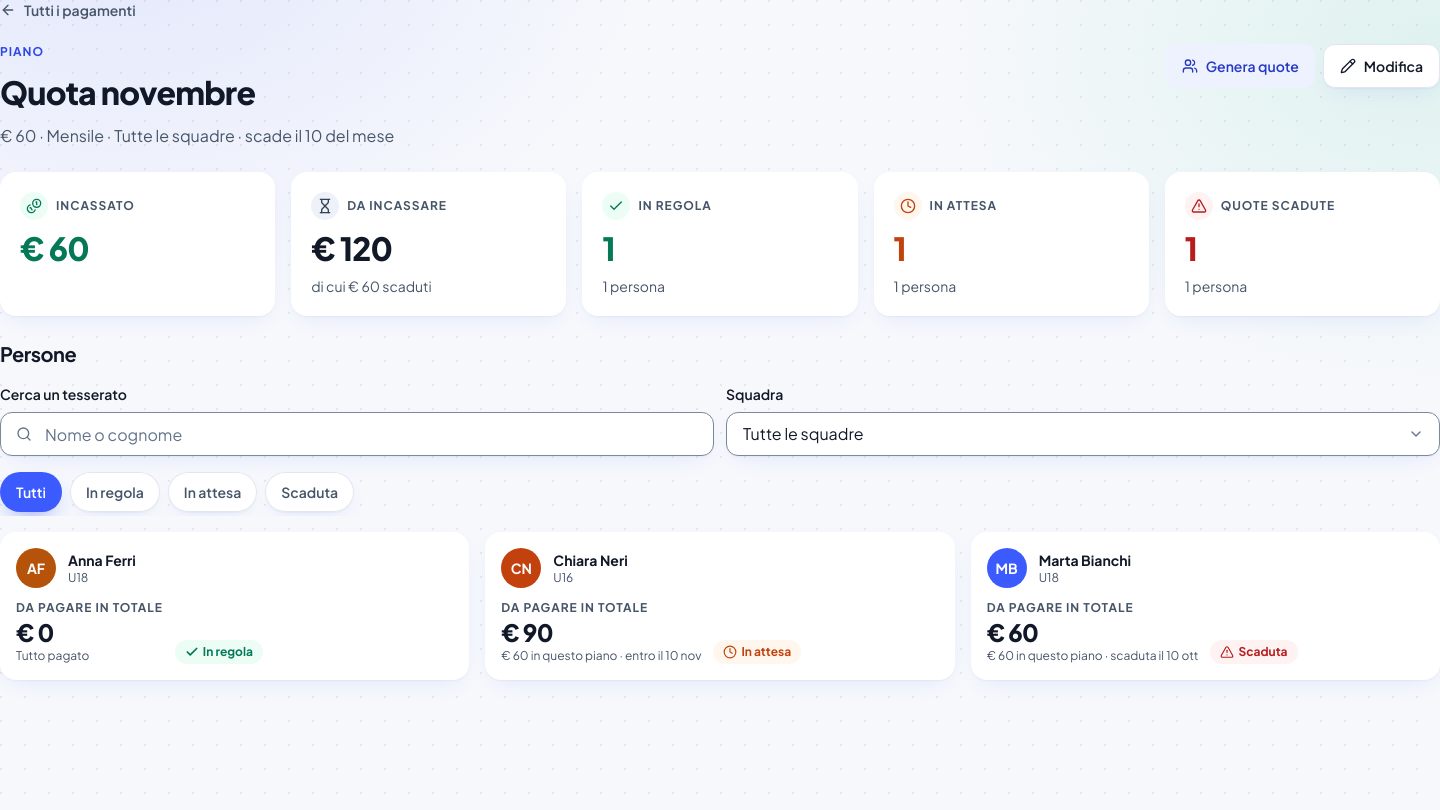
Scenario: PlanDetailPage: report and people › searches and filters inside the plan through the API, leaving the report untouched
expect the text "Anna Ferri" is shown: met, box [68,550,136,570]
Click the button "Scaduta": (310, 492) [265,472,354,512]
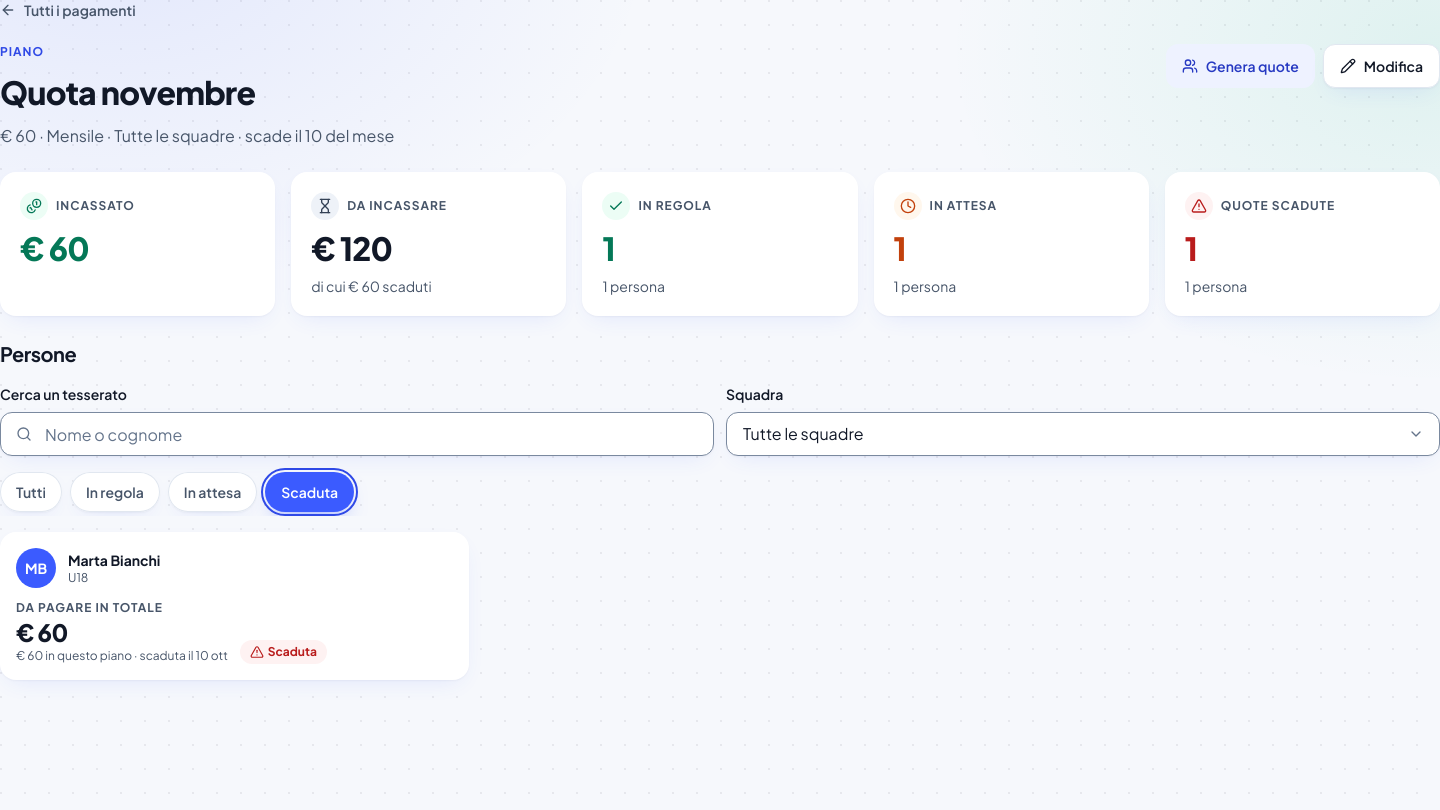
expect the text "Marta Bianchi" is shown: met, box [68,550,160,570]
expect the button "Anna Ferri" is gone: met
Click the button "Tutti": (31, 492) [0,472,62,512]
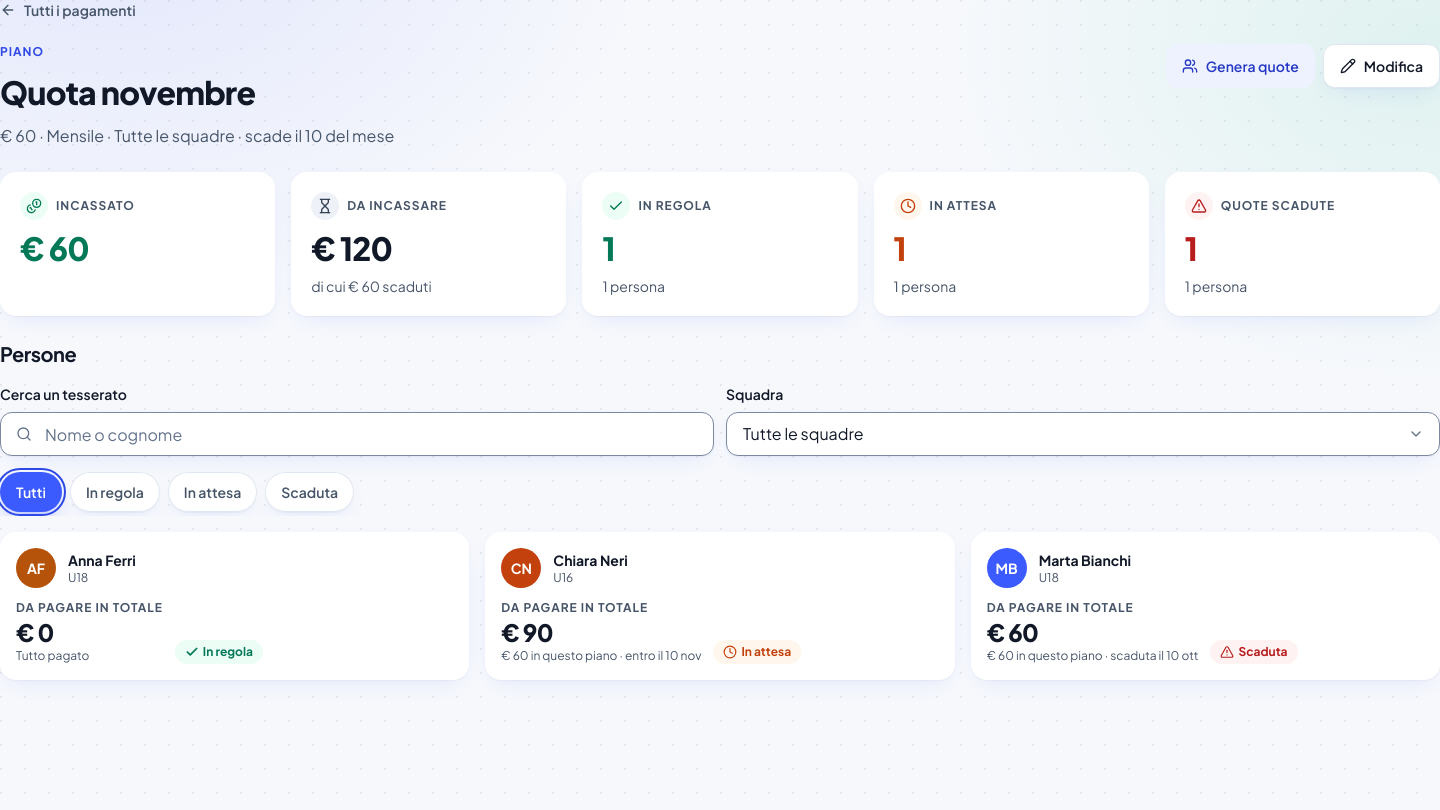
Select "U16" in the dropdown labelled "Squadra": (1083, 434) [726,412,1439,456]
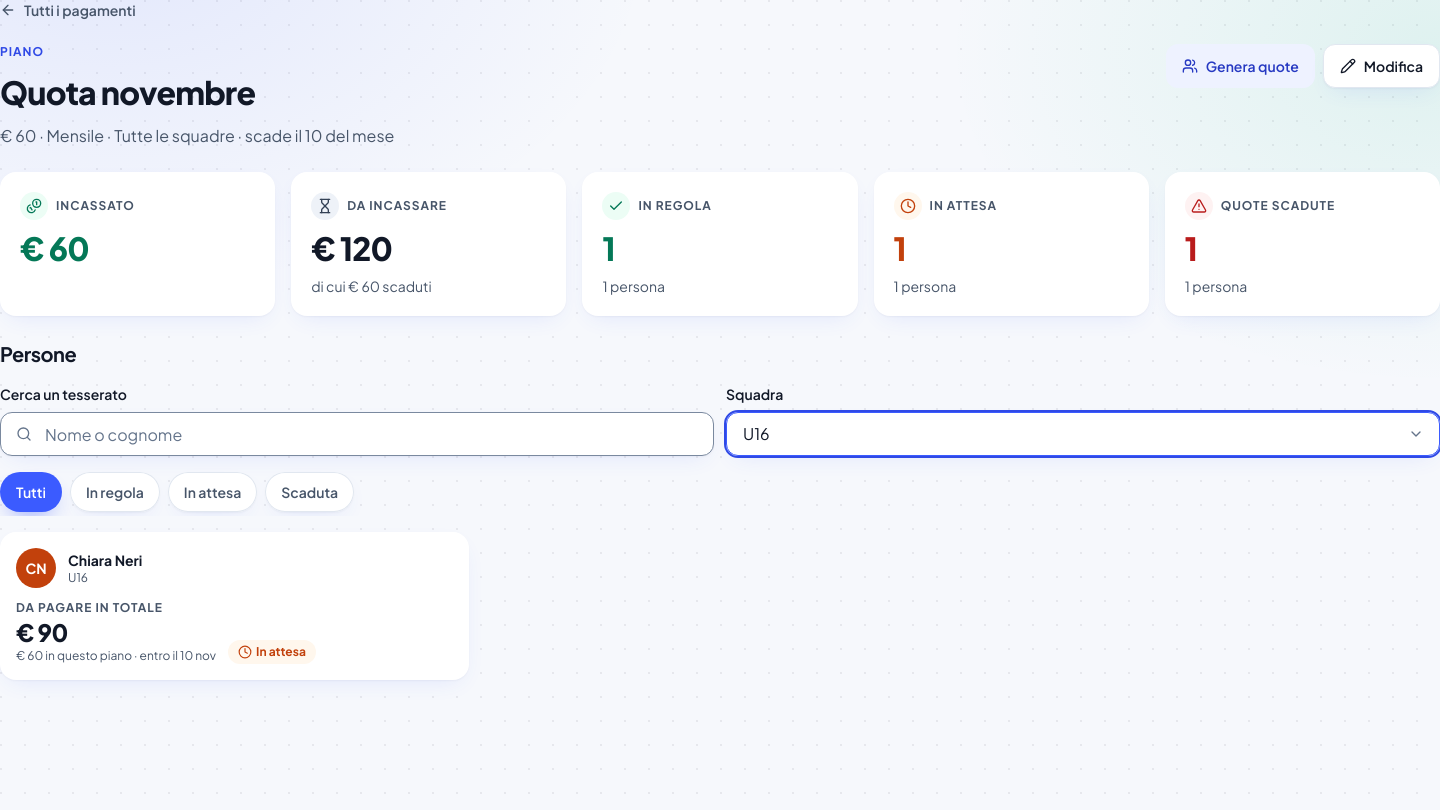
expect the text "Chiara Neri" is shown: met, box [68,550,142,570]
expect the button "Marta Bianchi" is gone: met
In the search field labelled "Cerca un tesserato": (357, 434) [0,412,714,456], type "zzz"
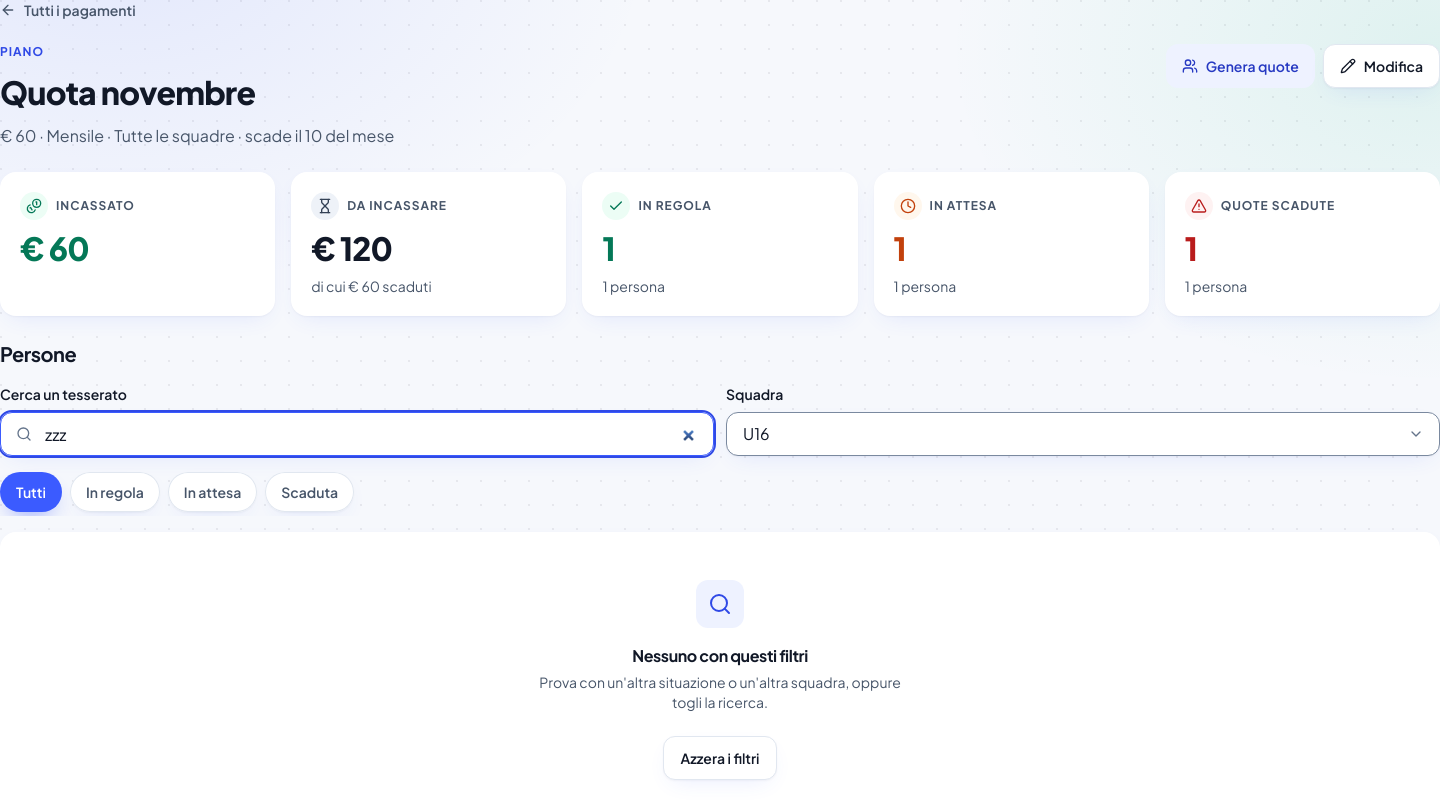
expect the heading "Nessuno con questi filtri" is shown: met, box [632,644,808,668]
Click the button "Azzera i filtri": (720, 758) [664,736,777,780]
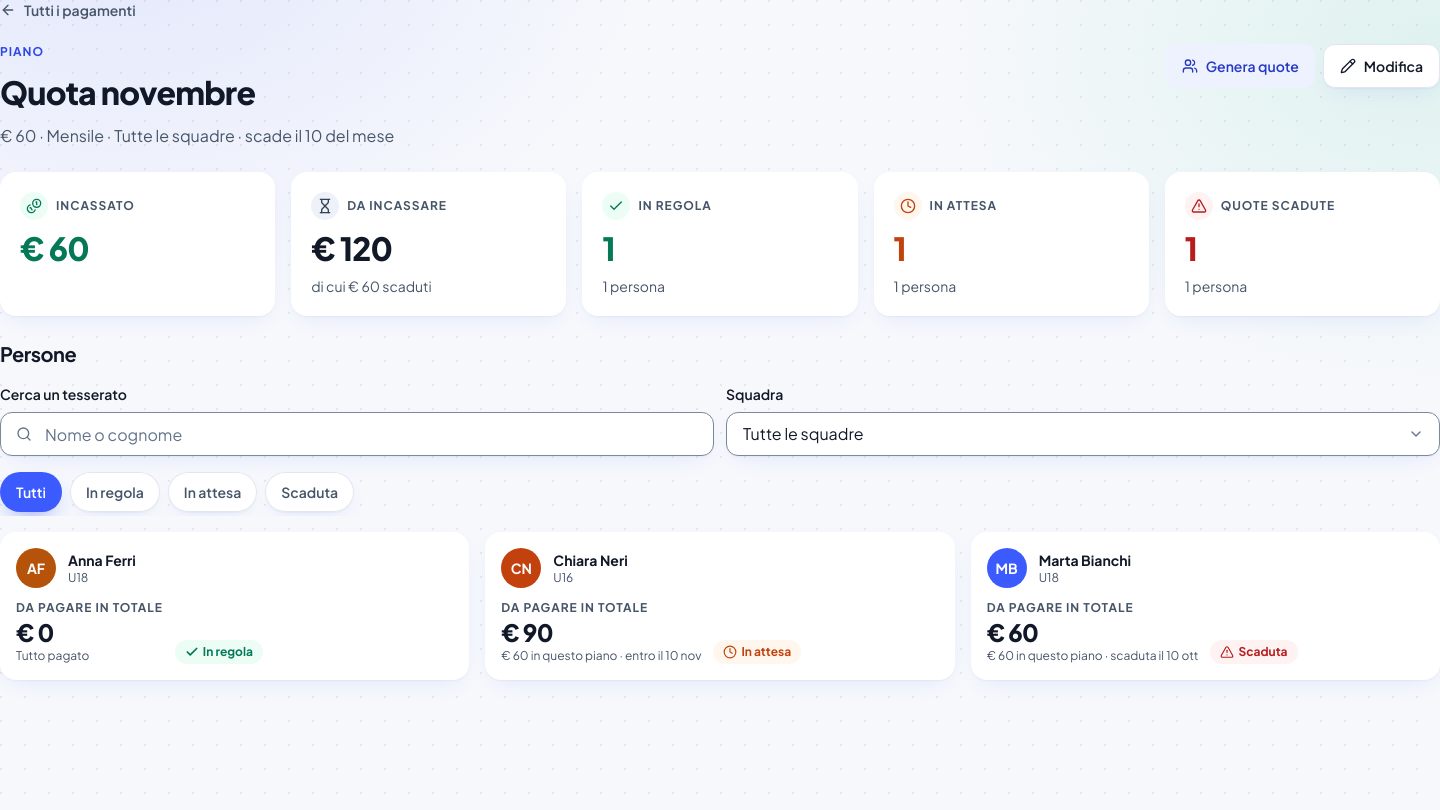
expect the text "Anna Ferri" is shown: met, box [68,550,136,570]
expect the text "Marta Bianchi" is shown: met, box [1039,550,1131,570]
